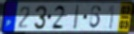1: (108, 4, 116, 31)
2: (50, 5, 67, 30), (17, 5, 31, 29)
3: (33, 4, 48, 30)
6: (89, 5, 102, 30)
I: (73, 4, 81, 31)
